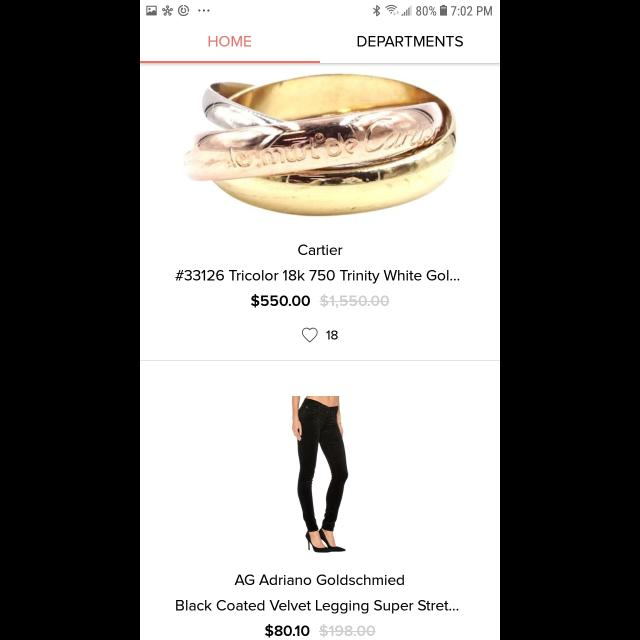icon: (302, 328, 318, 342)
image: (184, 75, 456, 217), (293, 396, 349, 552)
text: (176, 270, 460, 284), (177, 600, 459, 614), (234, 574, 403, 586), (250, 294, 390, 308), (264, 623, 376, 637), (357, 36, 463, 48), (208, 36, 252, 48), (298, 244, 342, 256), (326, 330, 338, 340)
uppertaskbar: (140, 1, 500, 17)
